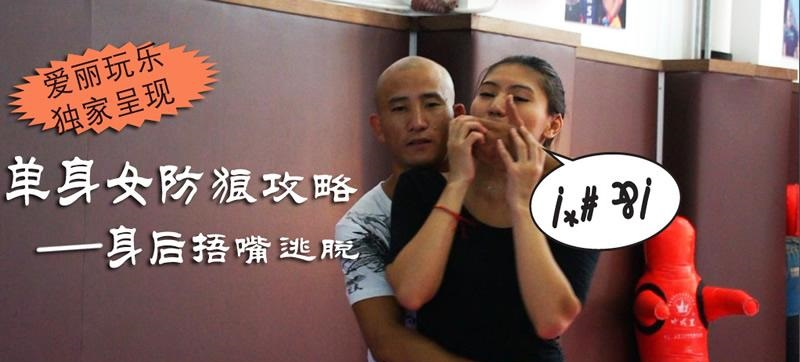face: (468, 68, 544, 160), (387, 73, 452, 162)
